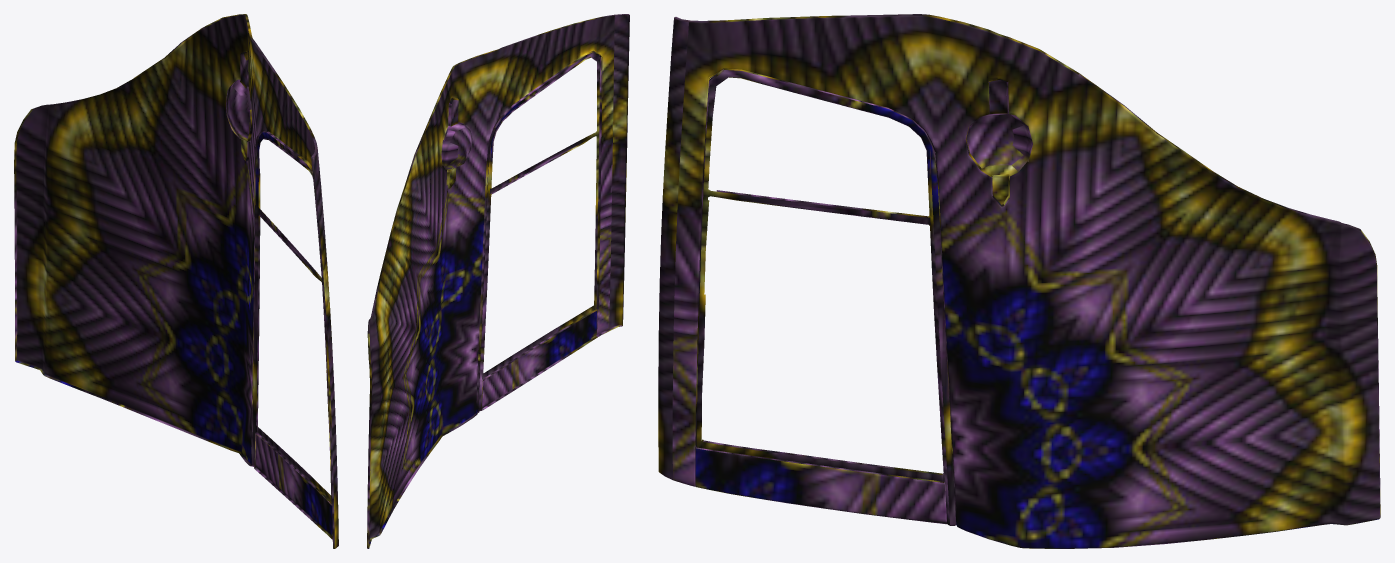
File: door_rr.obj
3 renders of one model, left to right at view 1: azimuth 30°, elevation 25°; view 2: azimuth 150°, elevation 25°; view 3: azimuth 270°, elevation 25°, orthographic. The views are drawn at different scales.
Visible parts, largest first — view 1: door_lr_ok01; view 2: door_lr_ok01; view 3: door_lr_ok01.
Boxes of the visible parts, box(x1,y1,x2,y2) form: door_lr_ok01: box(14, 14, 338, 548); door_lr_ok01: box(367, 14, 629, 548); door_lr_ok01: box(658, 14, 1380, 548).
Size of the model in its own units: 0.1535 by 0.8302 by 1.03.
Materials: 1 (1 with a texture image).
